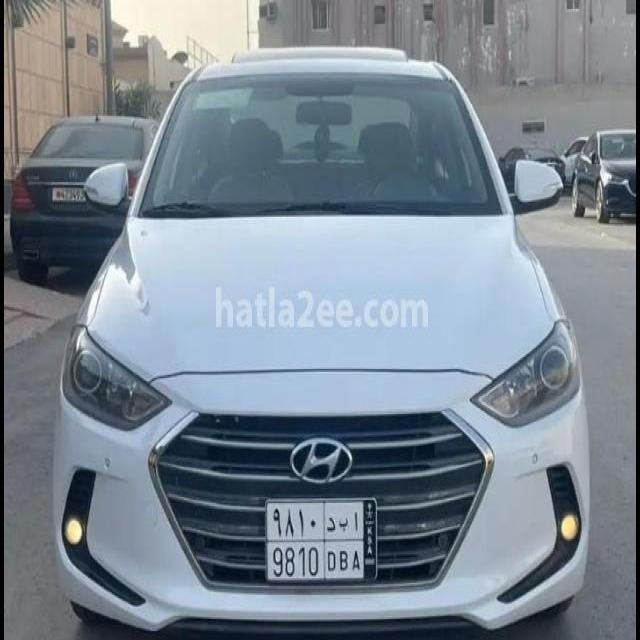license_plate: (258, 491, 374, 598), (45, 176, 89, 208)
